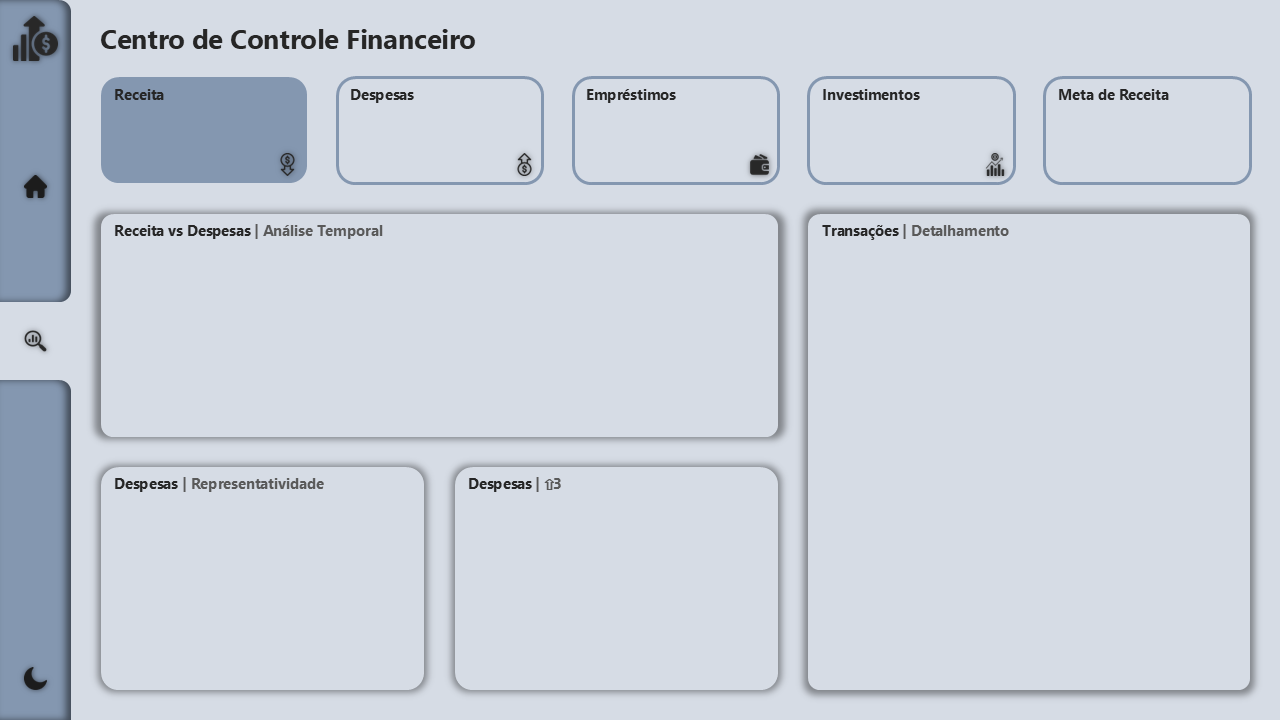

The page's visual inventory and layout, read from the dashboard file:
{"tool":"powerbi","page":{"name":"Análise Light","canvas":[1280,720],"ordinal":3},"visuals":[{"type":"cardVisual","fields":{"Data":["Medidas.ReceitaTotal"]},"box":[102,102,204,62],"z":0},{"type":"cardVisual","fields":{"Data":["Medidas.DespesaTotal"]},"box":[338,102,204,62],"z":1000},{"type":"cardVisual","fields":{"Data":["Medidas.Emprestimos"]},"box":[574,102,204,62],"z":2000},{"type":"cardVisual","fields":{"Data":["Medidas.Investimentos"]},"box":[810,102,204,62],"z":3000},{"type":"slicer","fields":{"Values":["dCalendario.ano"]},"box":[1148.2,22.7,112.9,46.3],"z":4000},{"type":"areaChart","title":"Receita por Período","fields":{"Category":["dCalendario.mes_abreviado"],"Y":["Medidas.ReceitaTotal","Medidas.Despesa"]},"box":[102,238.4,676.1,198],"z":5000},{"type":"clusteredBarChart","title":"Principais Despesas","fields":{"Category":["Financeiro.Detalhe"],"Y":["Medidas.Título Principais Despesas","Medidas.DespesaTotal"]},"box":[455.7,492,322.4,197.6],"z":6000},{"type":"textbox","box":[1091.8,30.6,65.9,31.4],"z":8000},{"type":"pivotTable","fields":{"Rows":["fFinanceiro.Transação","fFinanceiro.Grupo"],"Values":["Medidas.Transações"]},"box":[808,440,442,254],"z":9000},{"type":"treemap","fields":{"Group":["fFinanceiro.Transação"],"Values":["Medidas.Transações"]},"box":[808,238.4,442,200.8],"z":9001},{"type":"gauge","fields":{"TargetValue":["Medidas.Meta Atingida Receita"],"Y":["Medidas.Meta Máxima Receita"]},"box":[1046,102,204,82.4],"z":9002},{"type":"payPalKPIDonutChart55A431AB15A540ED924ACD72ED8D259F","fields":{"myvalue":["Medidas.% Despesas"]},"box":[102,492,322,198],"z":9003},{"type":"actionButton","box":[14.6,166,40,40],"z":9004},{"type":"actionButton","box":[14.9,608,40,40],"z":9005}]}

Visuals, with their boxes on the page's 1280x720 design canvas (x1, y1, x2, y2). These are canvas units, not pixel positions in the 1280x720 screenshot, which may show the page scaled, cropped or inside an application window:
cardVisual - Medidas.ReceitaTotal: Rect(102, 102, 306, 164)
cardVisual - Medidas.DespesaTotal: Rect(338, 102, 542, 164)
cardVisual - Medidas.Emprestimos: Rect(574, 102, 778, 164)
cardVisual - Medidas.Investimentos: Rect(810, 102, 1014, 164)
slicer - dCalendario.ano: Rect(1148, 23, 1261, 69)
"Receita por Período" areaChart: Rect(102, 238, 778, 436)
"Principais Despesas" clusteredBarChart: Rect(456, 492, 778, 690)
textbox: Rect(1092, 31, 1158, 62)
pivotTable - fFinanceiro.Transação x fFinanceiro.Grupo: Rect(808, 440, 1250, 694)
treemap - fFinanceiro.Transação x Medidas.Transações: Rect(808, 238, 1250, 439)
gauge - Medidas.Meta Atingida Receita x Medidas.Meta Máxima Receita: Rect(1046, 102, 1250, 184)
payPalKPIDonutChart55A431AB15A540ED924ACD72ED8D259F - Medidas.% Despesas: Rect(102, 492, 424, 690)
actionButton: Rect(15, 166, 55, 206)
actionButton: Rect(15, 608, 55, 648)
